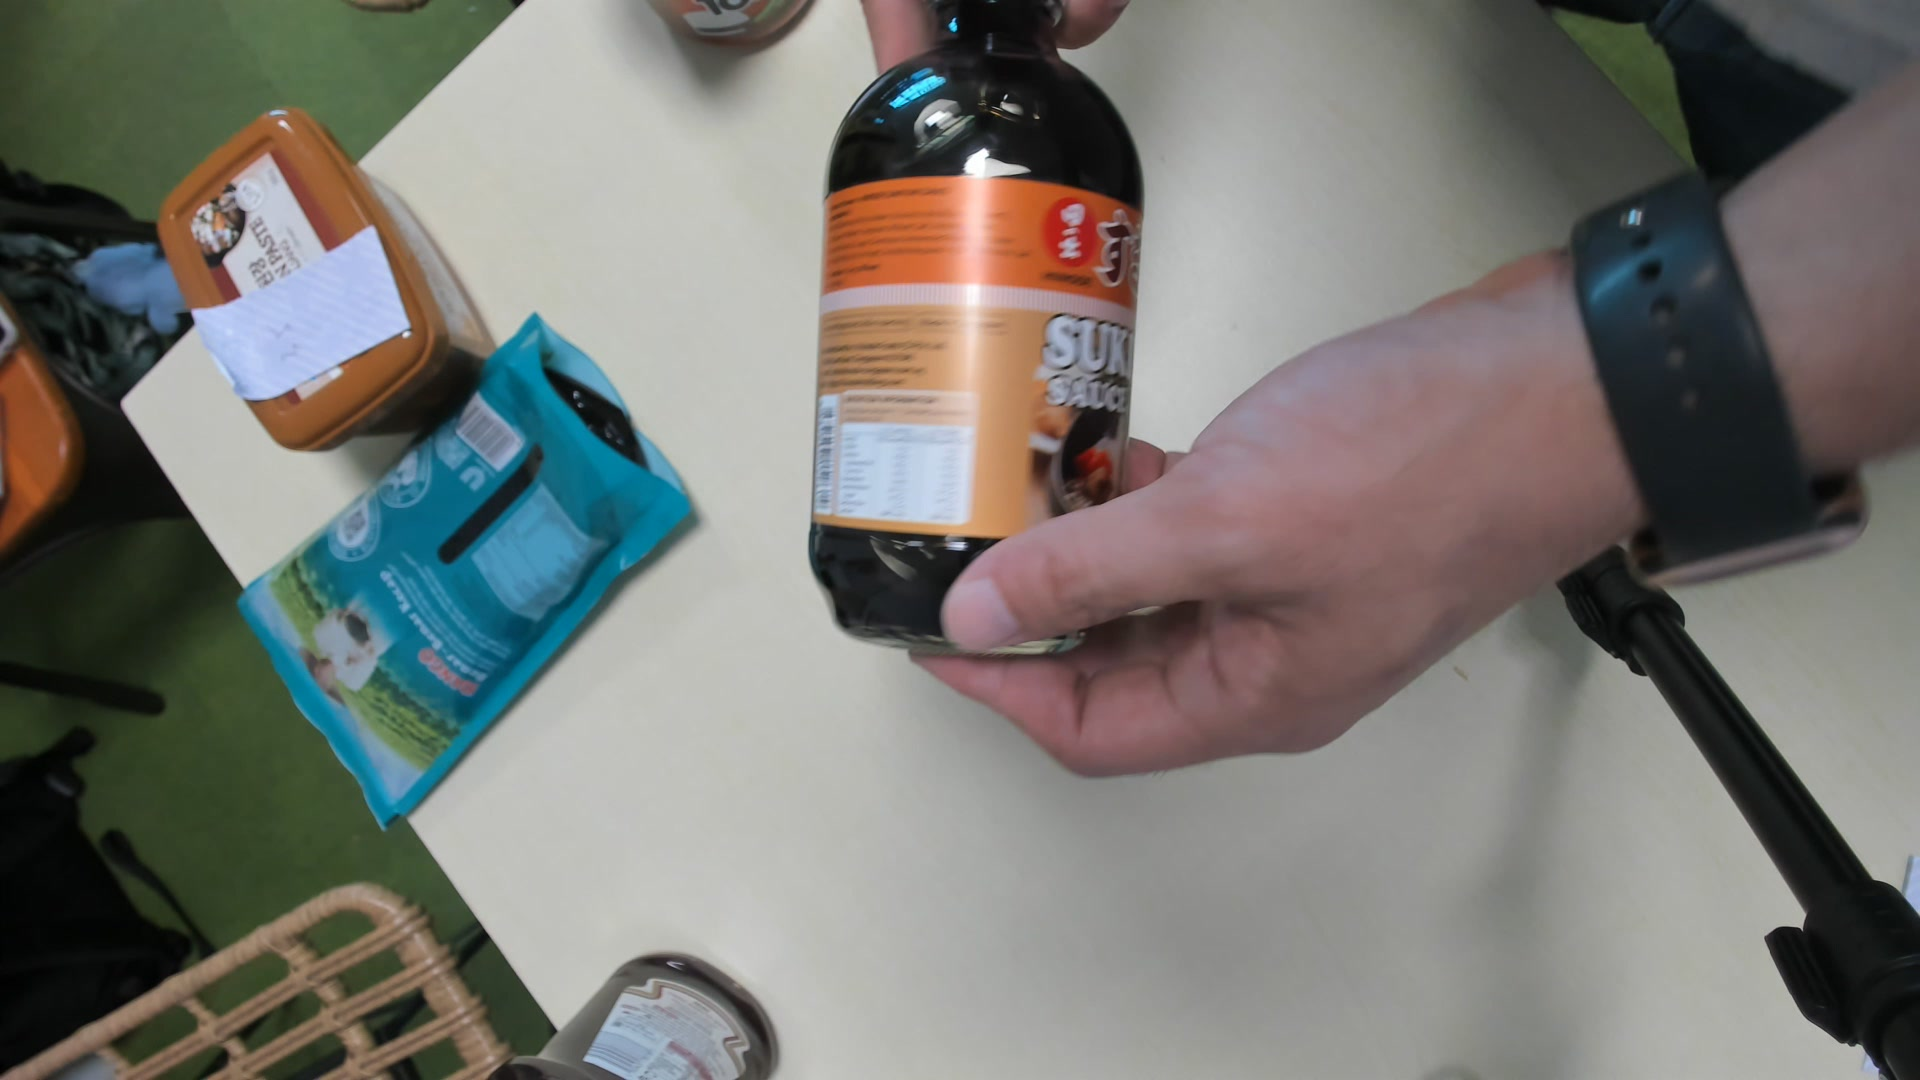OtherSauceDressing_400-499g_NonHalal_NonHealthy: (808, 3, 1142, 662)
